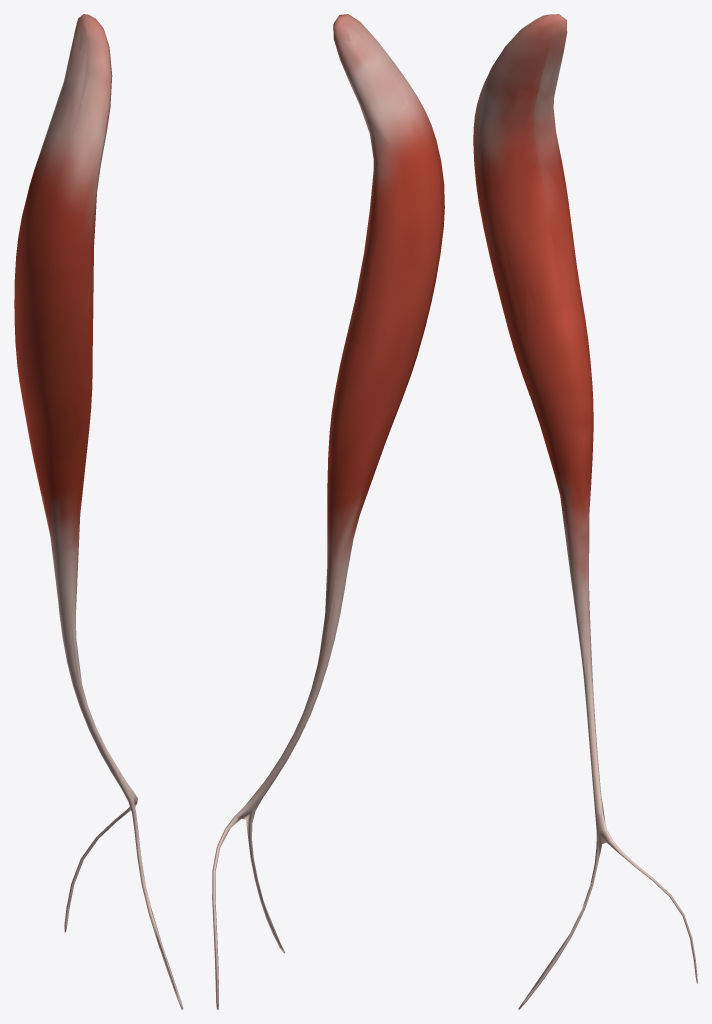
Rendered from R Deep Digital Flexor.fbx.
3 renders of one model, left to right at view 1: azimuth 30°, elevation 25°; view 2: azimuth 150°, elevation 25°; view 3: azimuth 270°, elevation 25°, orthographic. The views are drawn at different scales.
Parts seen in each view (by area): view 1: R Deep Digital Flexor, R Deep Digital Flexor low; view 2: R Deep Digital Flexor, R Deep Digital Flexor low; view 3: R Deep Digital Flexor low, R Deep Digital Flexor.
Part boxes in pixels (x1,y1,x2,y2): R Deep Digital Flexor: (14,14,183,1009); R Deep Digital Flexor low: (14,18,182,1006); R Deep Digital Flexor: (212,14,444,1009); R Deep Digital Flexor low: (214,18,440,942); R Deep Digital Flexor low: (474,20,695,1002); R Deep Digital Flexor: (473,14,697,1009).
Bounding box in the file's own units: 3.7 × 21.24 × 4.5.
